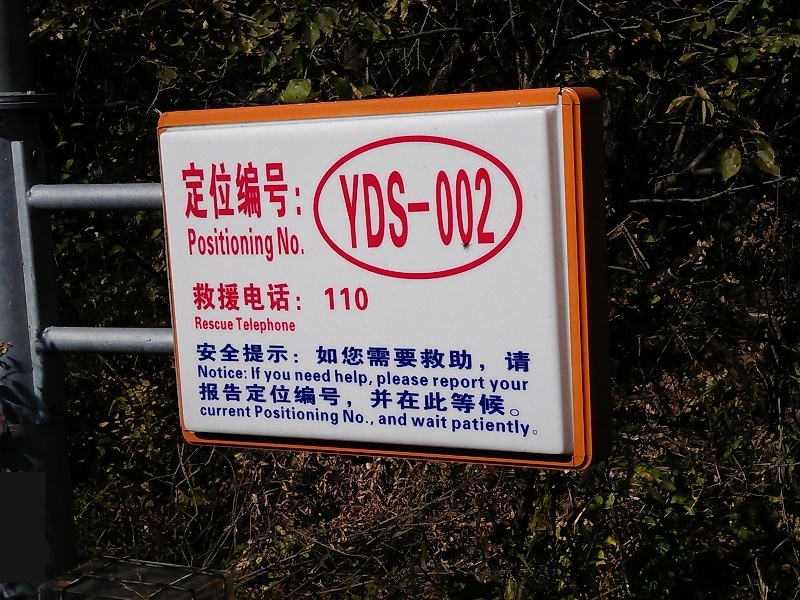text: (353, 166, 368, 251), (369, 166, 384, 251), (385, 166, 400, 251), (401, 166, 416, 251), (417, 166, 432, 251), (433, 166, 448, 251), (449, 166, 464, 251), (465, 166, 480, 251), (481, 166, 496, 251), (340, 166, 352, 251), (193, 159, 208, 220), (209, 159, 224, 220), (225, 159, 240, 220), (241, 159, 256, 220), (257, 159, 272, 220), (273, 159, 288, 220), (289, 159, 303, 220), (181, 159, 192, 220), (209, 381, 224, 416), (225, 381, 240, 416), (241, 381, 256, 416), (257, 381, 272, 416), (273, 381, 288, 416), (289, 381, 304, 416), (305, 381, 320, 416), (321, 381, 336, 416), (337, 381, 352, 416), (353, 381, 368, 416), (369, 381, 384, 416), (385, 381, 400, 416), (401, 381, 416, 416), (417, 381, 432, 416), (433, 381, 448, 416), (449, 381, 464, 416), (465, 381, 480, 416), (481, 381, 496, 416), (497, 381, 512, 416), (193, 227, 208, 261), (209, 227, 224, 261), (225, 227, 240, 261), (241, 227, 256, 261), (257, 227, 272, 261), (193, 282, 208, 313), (209, 282, 224, 313), (225, 282, 240, 313), (241, 282, 256, 313), (257, 282, 272, 313), (273, 282, 288, 313), (289, 282, 304, 313), (305, 282, 320, 313), (321, 282, 336, 313), (337, 282, 352, 313), (353, 282, 368, 313), (209, 342, 224, 373), (225, 342, 240, 373), (241, 342, 256, 373), (257, 342, 272, 373), (273, 342, 288, 373), (289, 342, 304, 373), (305, 342, 320, 373), (321, 342, 336, 373), (337, 342, 352, 373), (353, 342, 368, 373), (369, 342, 384, 373), (385, 342, 400, 373), (401, 342, 416, 373), (417, 342, 432, 373), (433, 342, 448, 373), (449, 342, 464, 373), (465, 342, 480, 373), (481, 342, 496, 373), (497, 342, 512, 373), (513, 342, 528, 373), (289, 225, 304, 256), (276, 225, 288, 256), (465, 416, 480, 439), (481, 416, 496, 439), (497, 416, 512, 439), (513, 416, 528, 439), (197, 342, 208, 373), (199, 381, 208, 416), (257, 405, 272, 426), (273, 405, 288, 426), (289, 405, 304, 426), (305, 405, 320, 426), (321, 405, 336, 426), (337, 368, 352, 387), (353, 368, 368, 387), (452, 416, 464, 439), (433, 413, 449, 430), (241, 317, 256, 335), (257, 317, 272, 335), (273, 317, 288, 335), (385, 370, 400, 388), (401, 370, 416, 388), (449, 374, 464, 392), (465, 374, 480, 392), (353, 410, 368, 427), (417, 413, 432, 430), (434, 374, 448, 392), (513, 381, 520, 416), (209, 364, 224, 380), (225, 364, 240, 380), (209, 404, 224, 420), (225, 404, 240, 420), (513, 378, 529, 393), (385, 411, 400, 427), (305, 368, 320, 383), (497, 378, 512, 393), (417, 370, 429, 388), (209, 317, 224, 331), (529, 416, 538, 439), (273, 370, 288, 383), (241, 404, 252, 420), (187, 227, 192, 261), (196, 317, 208, 331), (198, 364, 208, 380), (343, 410, 352, 427), (321, 368, 331, 383), (295, 368, 304, 383), (200, 404, 208, 420), (225, 317, 234, 331), (289, 317, 296, 335), (377, 370, 384, 388), (529, 342, 533, 373), (263, 370, 272, 383), (241, 364, 248, 380), (401, 411, 408, 427), (481, 374, 487, 392), (489, 378, 496, 393), (497, 166, 498, 251), (369, 410, 374, 427), (379, 411, 384, 427), (369, 368, 373, 387), (236, 317, 240, 335), (251, 366, 256, 380), (412, 413, 416, 430), (257, 366, 261, 380), (337, 405, 339, 426), (273, 227, 274, 261), (369, 282, 370, 313), (289, 370, 291, 383), (335, 368, 336, 387)
